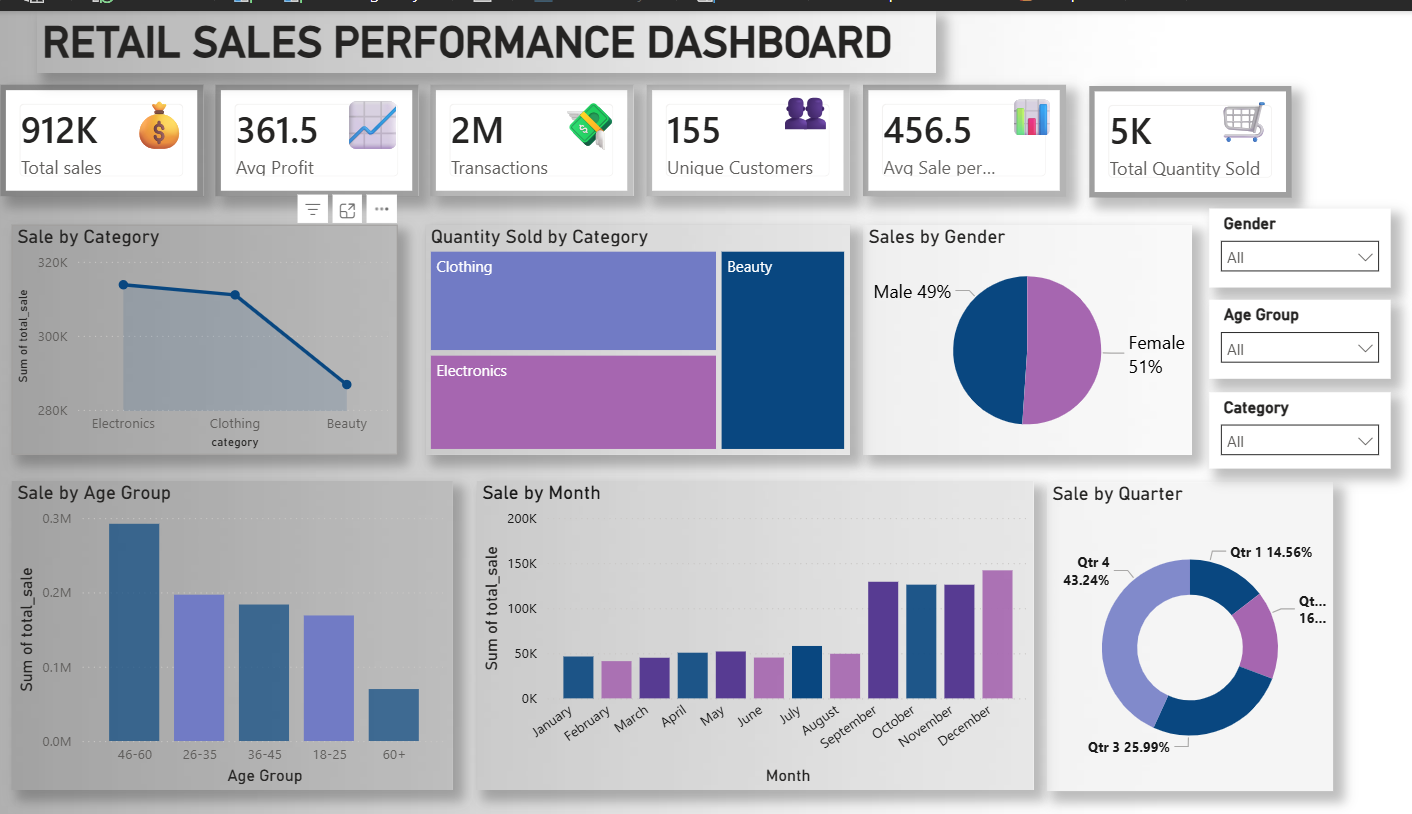

This screenshot's page, from the dashboard's own definition file:
{"tool":"powerbi","page":{"name":"Page 1","canvas":[1280,720],"ordinal":0},"visuals":[{"type":"cardVisual","fields":{"Data":["Sum(retail_sales.total_sale)"]},"box":[19.9,65.4,180.6,99.6],"z":0},{"type":"cardVisual","fields":{"Data":["Avg(retail_sales.Profit)"]},"box":[211.9,65.4,180.6,99.6],"z":1},{"type":"cardVisual","fields":{"Data":["Sum(retail_sales.transactions_id)"]},"box":[402.5,65.4,180.6,99.6],"z":2},{"type":"cardVisual","fields":{"Data":["retail_sales.Unique Customers"]},"box":[595.9,65.4,180.6,99.6],"z":3},{"type":"cardVisual","fields":{"Data":["retail_sales.Avg Sale per Transaction"]},"box":[787.9,65.4,180.6,99.6],"z":4},{"type":"cardVisual","fields":{"Data":["retail_sales.Total Quantity Sold"]},"box":[989.7,66.4,180.3,99.6],"z":5},{"type":"textbox","box":[126.4,65.9,73,74.8],"z":6},{"type":"textbox","box":[316.8,65.9,74.8,74.8],"z":7},{"type":"areaChart","title":"Sale by Category","fields":{"Category":["retail_sales.category"],"Y":["Sum(retail_sales.total_sale)"]},"box":[30.3,190.4,343.4,204.9],"z":8},{"type":"treemap","title":"Quantity Sold by Category","fields":{"Group":["retail_sales.category"],"Values":["Sum(retail_sales.quantity)"]},"box":[398.2,190.4,378,204.9],"z":9},{"type":"pieChart","title":"Sales by Gender","fields":{"Category":["retail_sales.gender"],"Y":["Sum(retail_sales.total_sale)"]},"box":[787.7,190.4,292.9,204.9],"z":10},{"type":"lineStackedColumnComboChart","title":"Sale by Age Group","fields":{"Category":["retail_sales.Age Group"],"Y":["Sum(retail_sales.total_sale)"]},"box":[30.3,418.4,392.4,275.6],"z":11},{"type":"columnChart","title":" Sale by Month","fields":{"Category":["retail_sales.sale_date.Variation.Date Hierarchy.Month"],"Y":["Sum(retail_sales.total_sale)"]},"box":[444.4,418.4,496.3,275.6],"z":12},{"type":"donutChart","title":"Sale by Quarter","fields":{"Y":["Sum(retail_sales.total_sale)"],"Category":["retail_sales.sale_date.Variation.Date Hierarchy.Quarter"]},"box":[952.2,419.8,255.4,275.6],"z":13},{"type":"textbox","box":[51.9,0,800.7,54.8],"z":14},{"type":"textbox","box":[707,54.8,69.3,72.1],"z":15},{"type":"textbox","box":[510.7,66.4,62,75],"z":16},{"type":"textbox","box":[911.8,66.4,56.3,60.6],"z":17},{"type":"textbox","box":[1096.5,66.4,73.6,60.6],"z":18},{"type":"slicer","fields":{"Values":["retail_sales.gender"]},"box":[1096.5,176,161.6,70.7],"z":19},{"type":"slicer","fields":{"Values":["retail_sales.Age Group"]},"box":[1096.5,256.8,161.6,70.7],"z":20},{"type":"slicer","fields":{"Values":["retail_sales.category"]},"box":[1096.5,339,161.6,67.8],"z":21}]}

Visuals, with their boxes on the page's 1280x720 design canvas (x1, y1, x2, y2). These are canvas units, not pixel positions in the 1412x814 screenshot, which may show the page scaled, cropped or inside an application window:
cardVisual - Sum(retail_sales.total_sale): <bbox>20, 65, 200, 165</bbox>
cardVisual - Avg(retail_sales.Profit): <bbox>212, 65, 392, 165</bbox>
cardVisual - Sum(retail_sales.transactions_id): <bbox>402, 65, 583, 165</bbox>
cardVisual - retail_sales.Unique Customers: <bbox>596, 65, 776, 165</bbox>
cardVisual - retail_sales.Avg Sale per Transaction: <bbox>788, 65, 968, 165</bbox>
cardVisual - retail_sales.Total Quantity Sold: <bbox>990, 66, 1170, 166</bbox>
textbox: <bbox>126, 66, 199, 141</bbox>
textbox: <bbox>317, 66, 392, 141</bbox>
"Sale by Category" areaChart: <bbox>30, 190, 374, 395</bbox>
"Quantity Sold by Category" treemap: <bbox>398, 190, 776, 395</bbox>
"Sales by Gender" pieChart: <bbox>788, 190, 1081, 395</bbox>
"Sale by Age Group" lineStackedColumnComboChart: <bbox>30, 418, 423, 694</bbox>
" Sale by Month" columnChart: <bbox>444, 418, 941, 694</bbox>
"Sale by Quarter" donutChart: <bbox>952, 420, 1208, 695</bbox>
textbox: <bbox>52, 0, 853, 55</bbox>
textbox: <bbox>707, 55, 776, 127</bbox>
textbox: <bbox>511, 66, 573, 141</bbox>
textbox: <bbox>912, 66, 968, 127</bbox>
textbox: <bbox>1096, 66, 1170, 127</bbox>
slicer - retail_sales.gender: <bbox>1096, 176, 1258, 247</bbox>
slicer - retail_sales.Age Group: <bbox>1096, 257, 1258, 328</bbox>
slicer - retail_sales.category: <bbox>1096, 339, 1258, 407</bbox>
